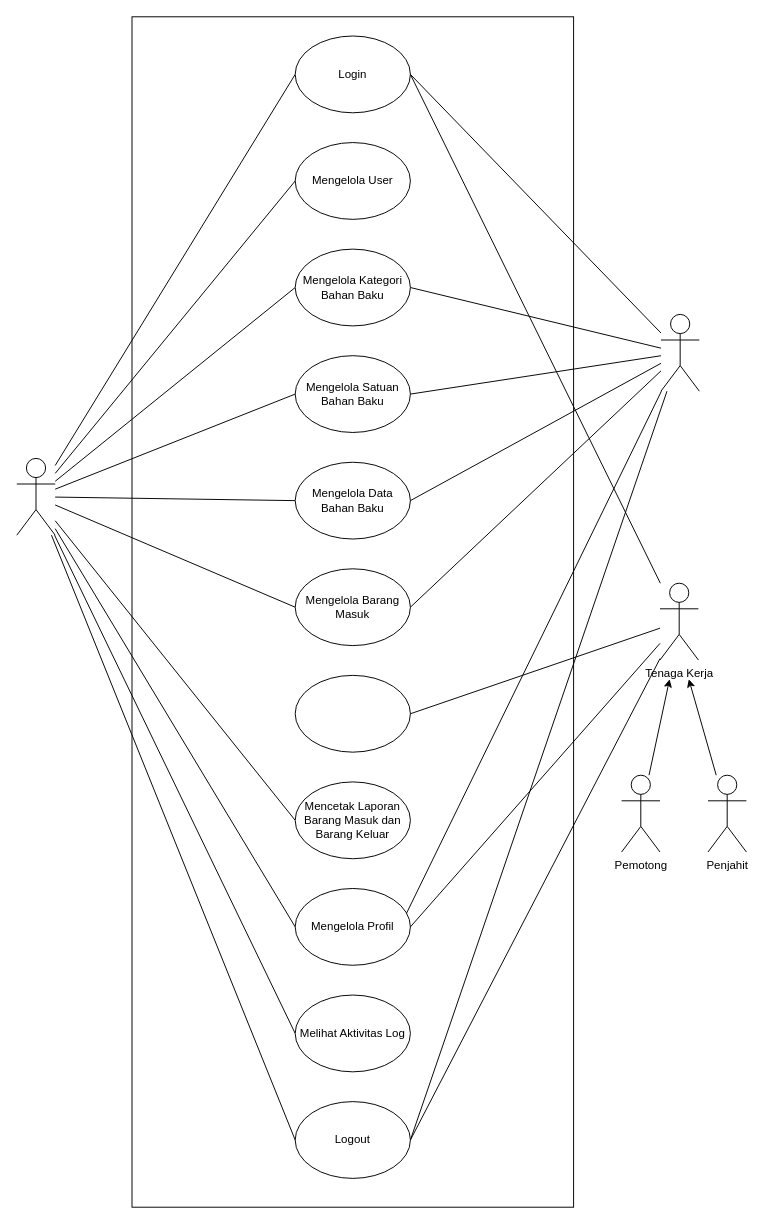
The diagram is 764 pixels wide and 1224 high, and some of its shapes have lost their labels. The shapes that lost their labels are listed below. From the top down, each one's box as (x1, y1, x2, y2) in pixels, then its label:
(660, 313, 699, 391): Supervisor
(16, 457, 55, 535): Owner
(294, 674, 410, 752): Mengambil Bahan baku
